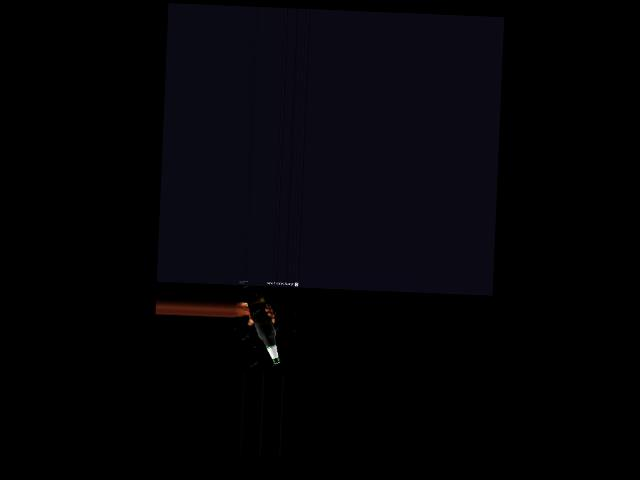beer: (244, 294, 283, 365)
